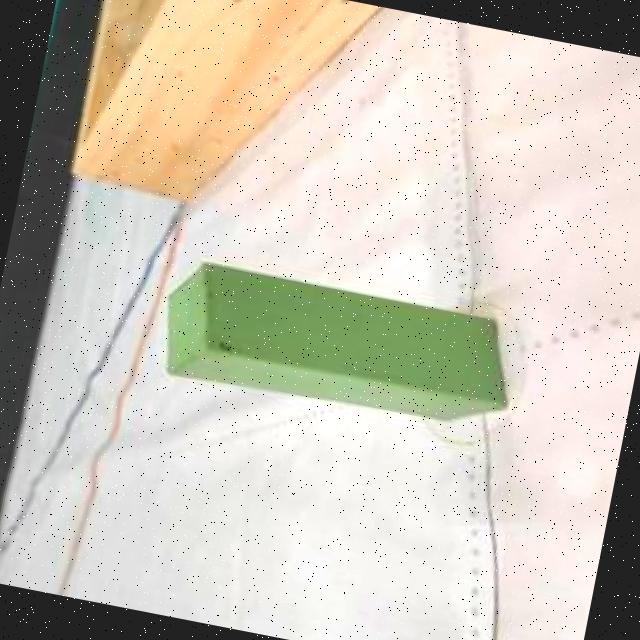greenbox: (154, 253, 524, 438)
